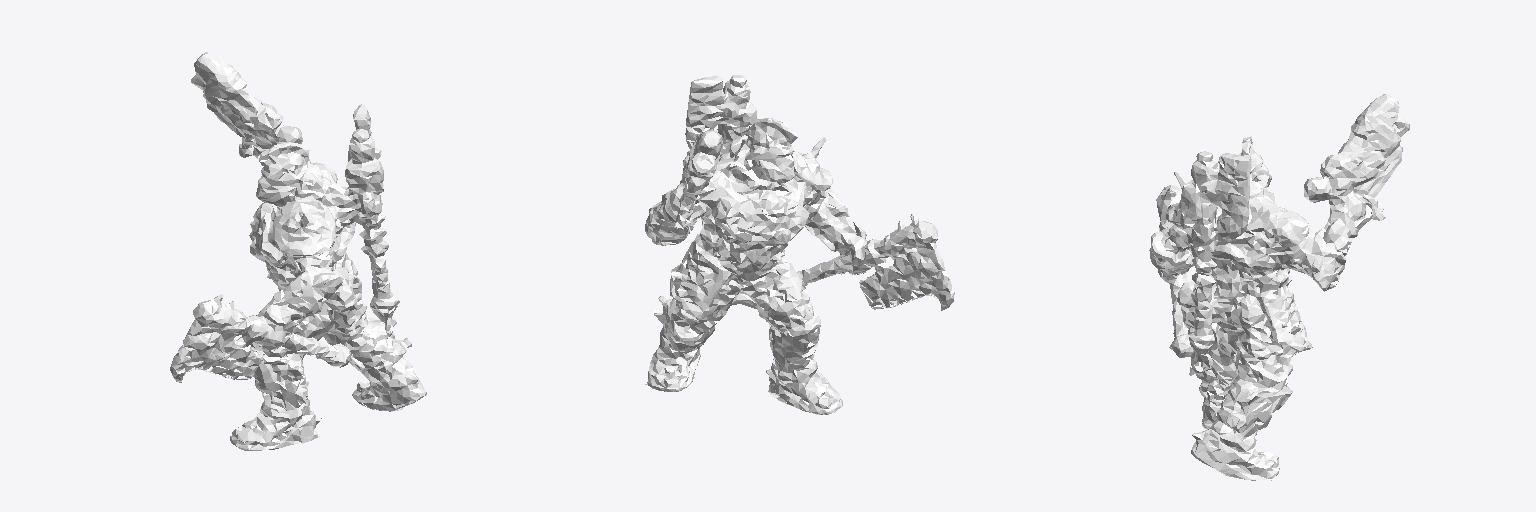
Rendered from SkitzoTry3up.obj.
3 renders of one model, left to right at view 1: azimuth 30°, elevation 25°; view 2: azimuth 150°, elevation 25°; view 3: azimuth 270°, elevation 25°, orthographic.
Parts seen in each view (by area): view 1: SkitzoTry3; view 2: SkitzoTry3; view 3: SkitzoTry3.
Boxes of the visible parts, x1=… form: SkitzoTry3: x1=170, y1=52, x2=426, y2=450; SkitzoTry3: x1=645, y1=75, x2=954, y2=414; SkitzoTry3: x1=1149, y1=94, x2=1409, y2=480.
Bounding box in the file's own units: 2.65 × 3.05 × 2.22.